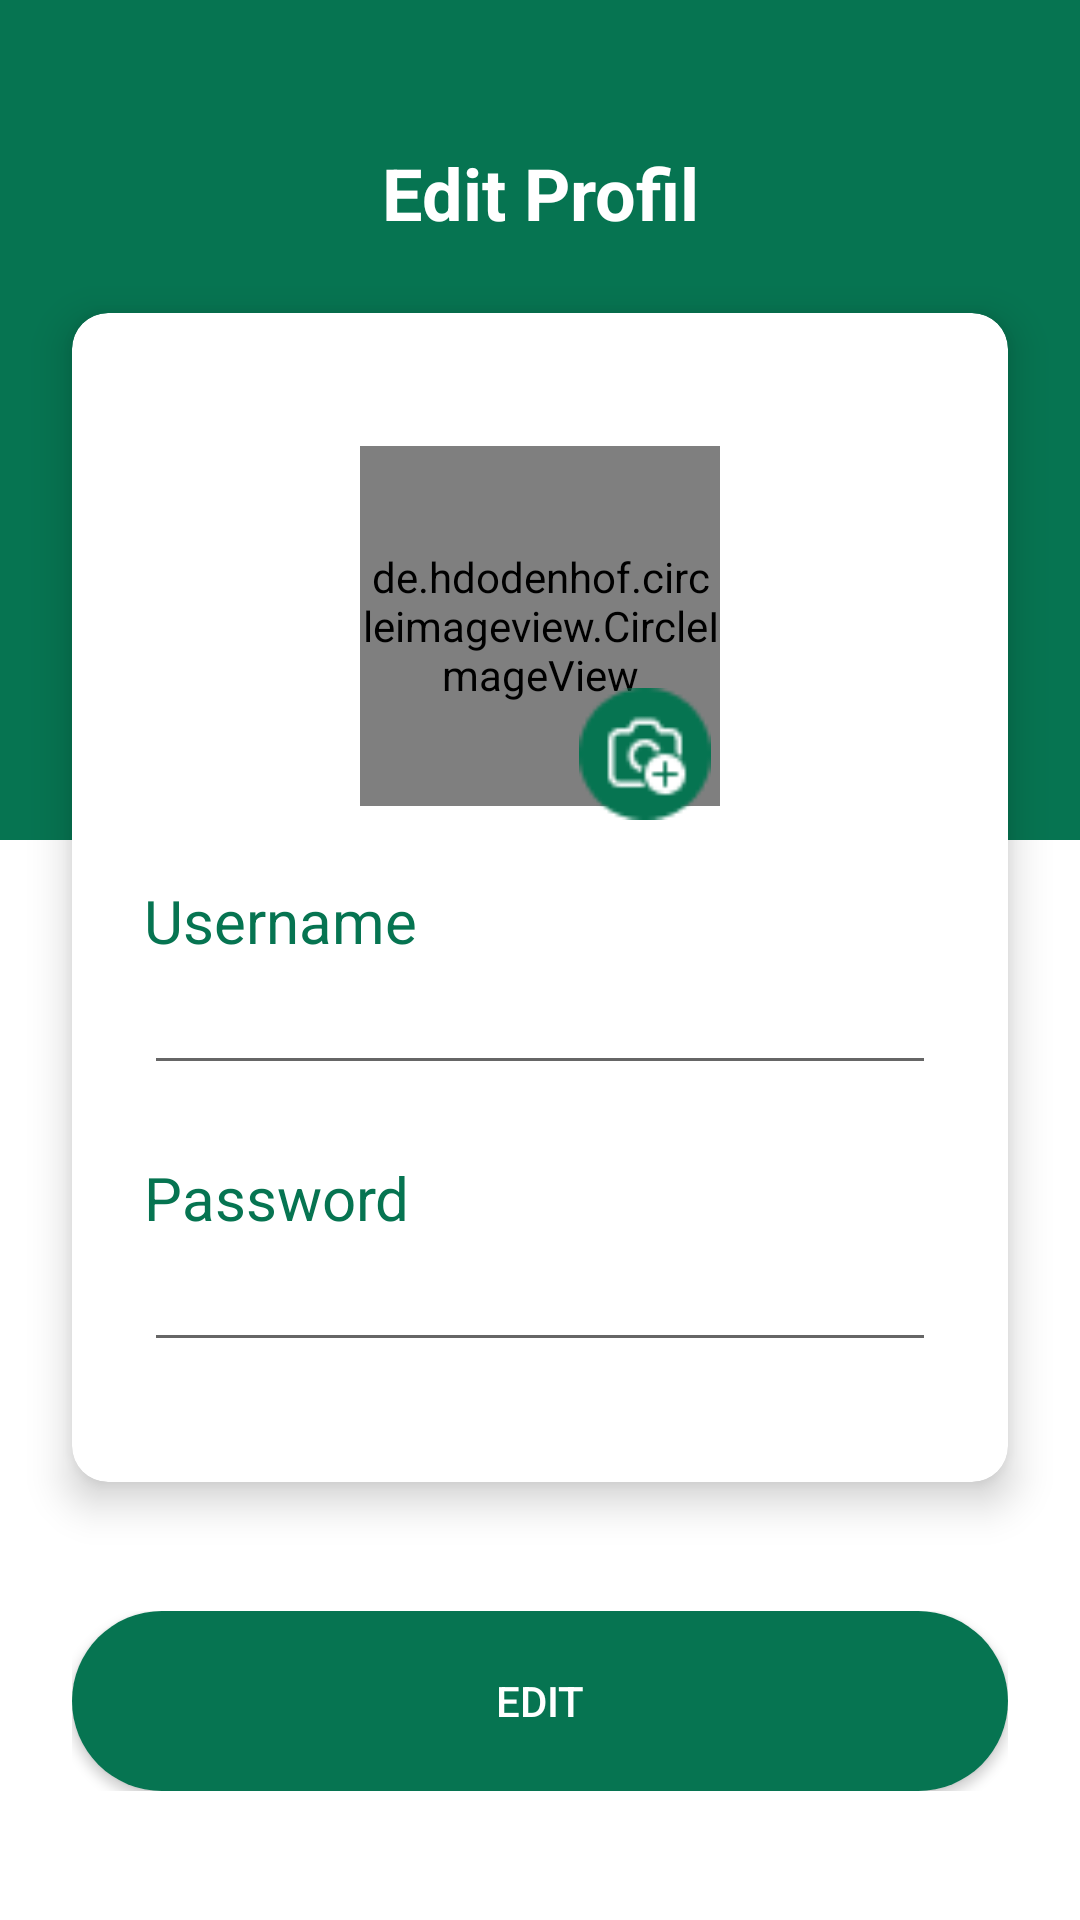

Locate icon controls on the screen. Image size 1080 × 1920, boxes as bbox=(x1, y1, x2, y2).
cam: bbox=(579, 688, 711, 820)
